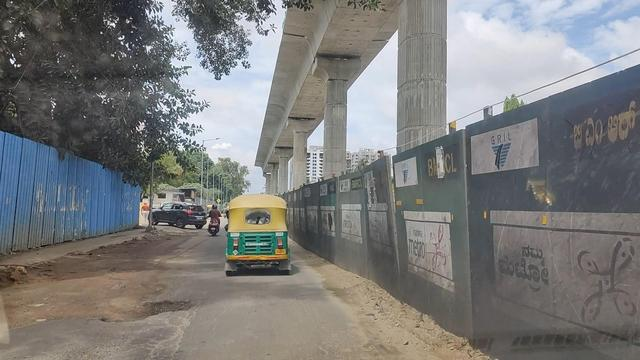LMV: (222, 190, 297, 275)
RoadDamages: (79, 291, 195, 360)
UnsurfacedRoad: (66, 250, 161, 293)
